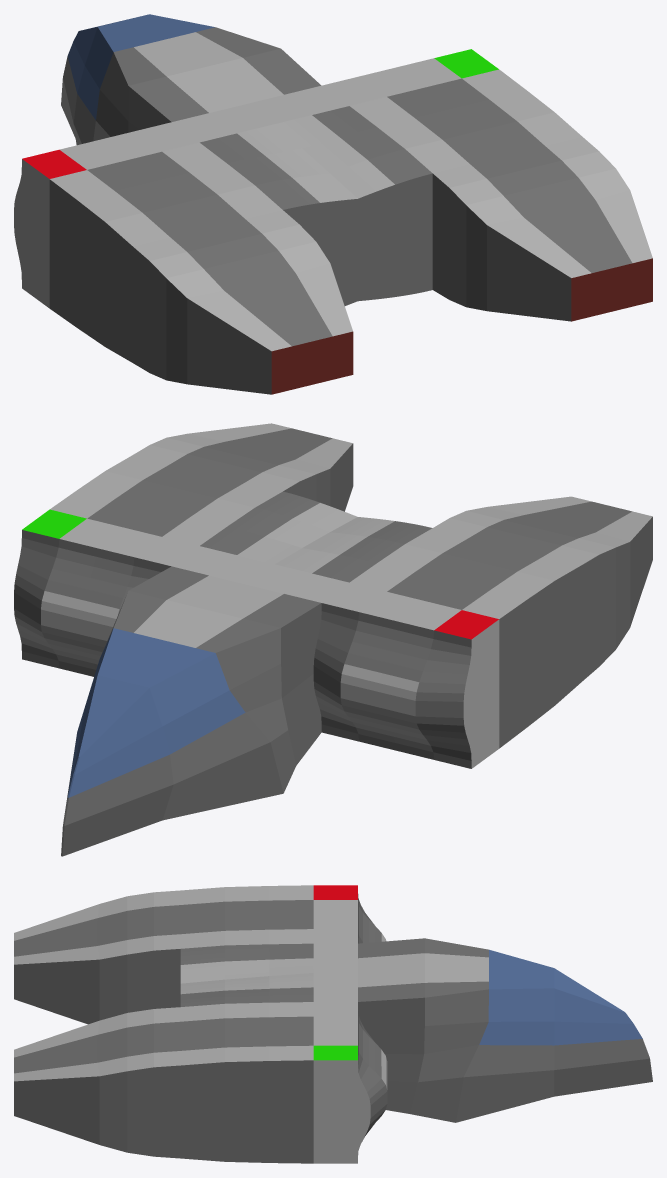
File: BasicSpaceship.fbx
The picture shows the model from 3 angles, top to bottom: view 1: azimuth 30°, elevation 25°; view 2: azimuth 150°, elevation 25°; view 3: azimuth 270°, elevation 25°; orthographic projection. The views are drawn at different scales.
Visible parts, largest first — view 1: Cube; view 2: Cube; view 3: Cube.
Boxes of the visible parts, x1=… form: Cube: x1=14, y1=14, x2=652, y2=394; Cube: x1=14, y1=423, x2=652, y2=856; Cube: x1=14, y1=885, x2=652, y2=1163.
Bounding box in the file's own units: 777 × 242 × 1199.
